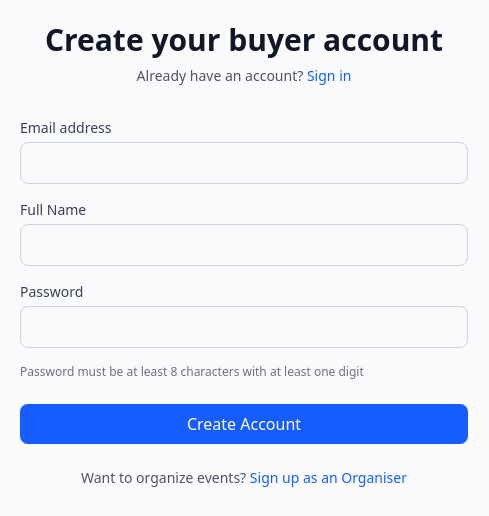
Test case: BuyerRegistrationView › shows error when password contains no digit
Type "test@example.com" into the field labelled "Email address". click: {"x": 244, "y": 163}
box: [20,142,468,184]
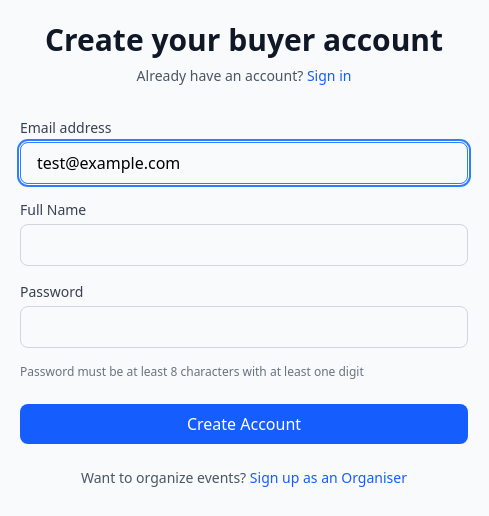
Type "Jane Doe" into the field labelled "Full Name". click: {"x": 244, "y": 245}
box: [20,224,468,266]
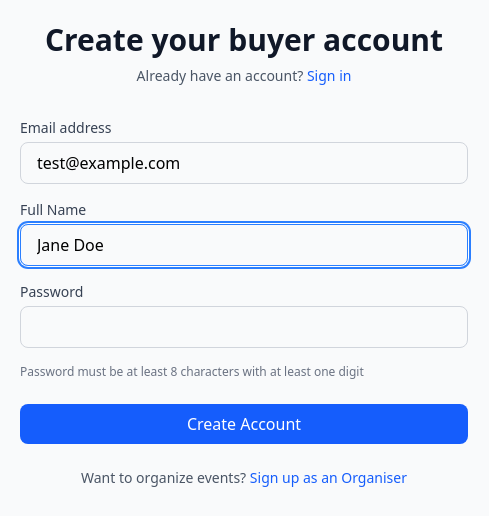
Type "abcdefgh" into the password field labelled "Password". click: {"x": 244, "y": 327}
box: [20,306,468,348]
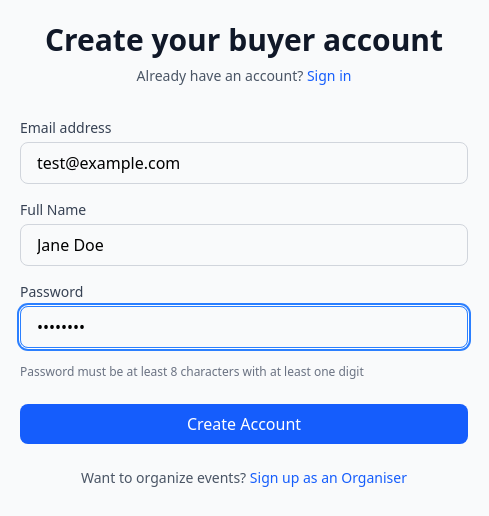
Click the button "Create Account". click: {"x": 244, "y": 424}
box: [20,404,468,444]
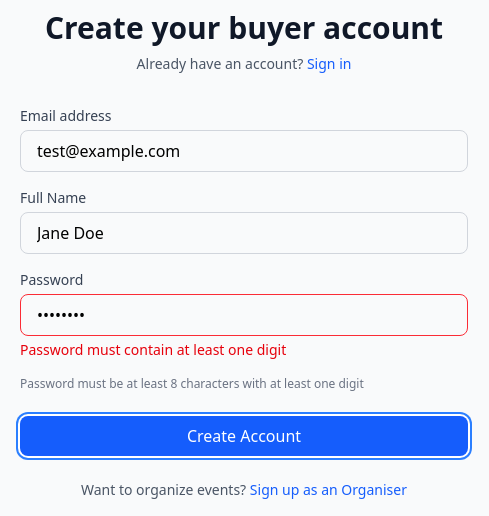
Expected: the text "Password must contain at least one digit" is shown, [20,340,286,359]
